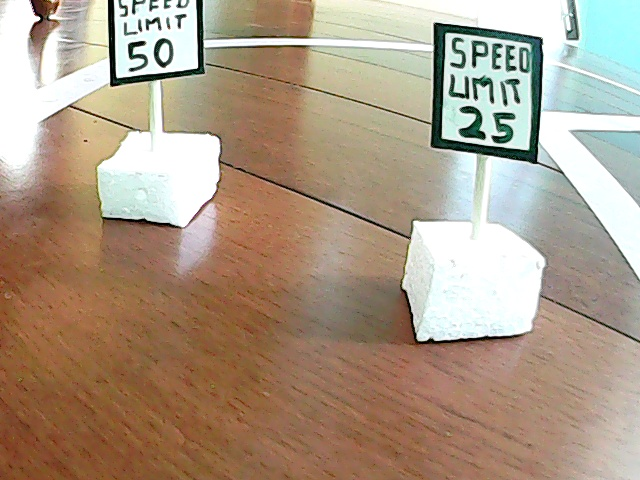speed_25: (422, 28, 549, 341)
speed_50: (96, 1, 233, 216)
